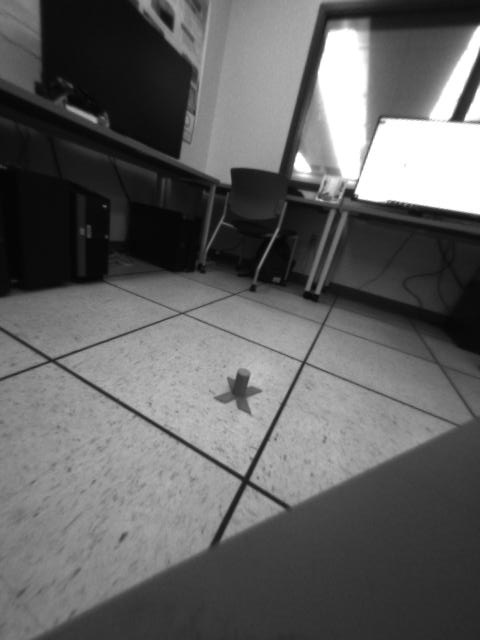X: (214, 369, 263, 416)
